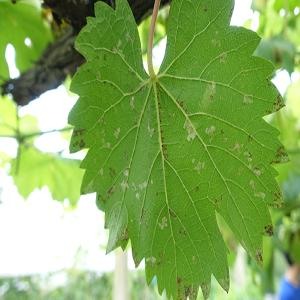Folha: (66, 0, 289, 298)
Fungo: (154, 82, 168, 161), (177, 277, 198, 300), (130, 179, 155, 197), (269, 91, 285, 117), (70, 127, 87, 150), (112, 38, 128, 62), (182, 118, 196, 142), (274, 147, 289, 167), (270, 189, 284, 209), (176, 98, 190, 114), (210, 31, 222, 49), (218, 50, 228, 67), (194, 159, 204, 175), (262, 223, 274, 236), (157, 216, 168, 230), (252, 166, 266, 177), (202, 282, 211, 299), (157, 250, 164, 270), (120, 225, 129, 240), (204, 124, 215, 136), (255, 250, 264, 264), (96, 194, 106, 206), (208, 79, 217, 92), (140, 205, 146, 224), (106, 184, 114, 198), (119, 179, 128, 191), (146, 255, 154, 268), (168, 207, 176, 220), (113, 126, 121, 139), (243, 94, 253, 104), (122, 168, 132, 177), (109, 166, 116, 178), (191, 255, 197, 265), (100, 117, 106, 127), (248, 149, 252, 162), (213, 197, 219, 205), (178, 226, 183, 234), (194, 184, 198, 192), (102, 53, 106, 61), (248, 134, 252, 142), (266, 78, 270, 85), (179, 100, 183, 106), (209, 94, 213, 100), (204, 5, 208, 11), (182, 230, 186, 236), (94, 54, 98, 60), (220, 129, 224, 134), (168, 112, 171, 118)
